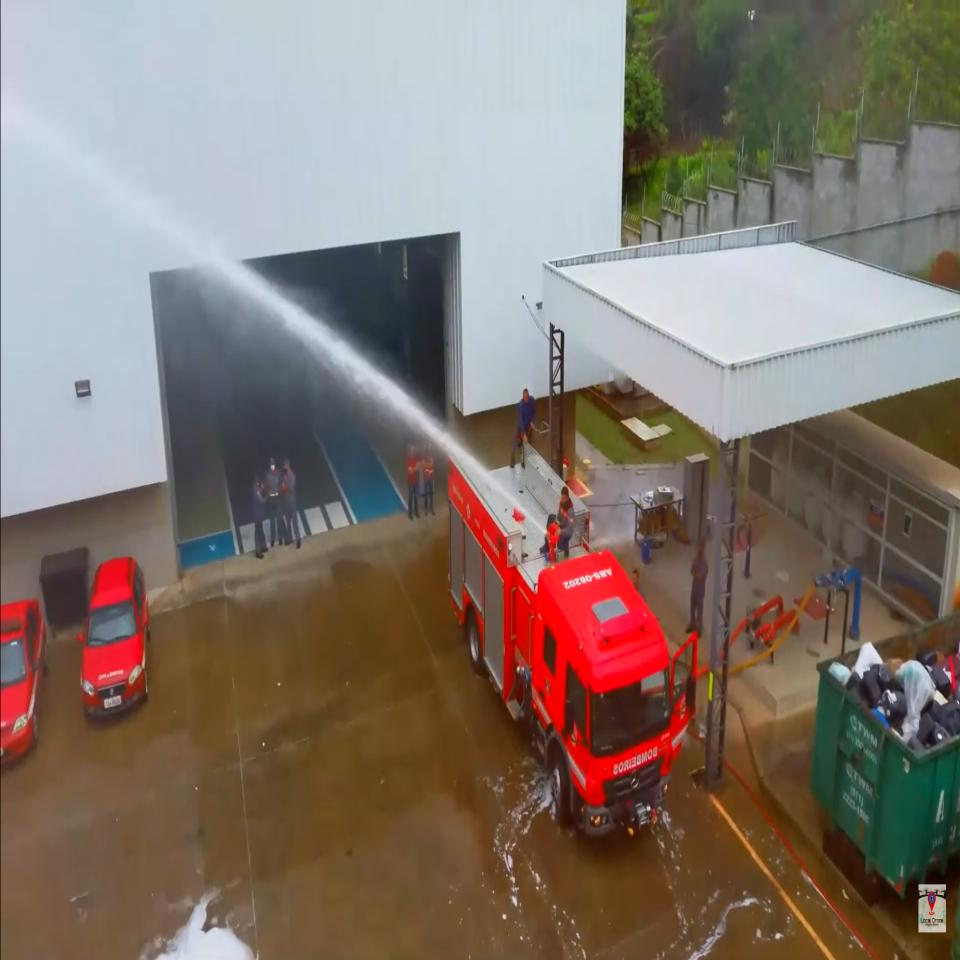viatura: (445, 440, 701, 848)
